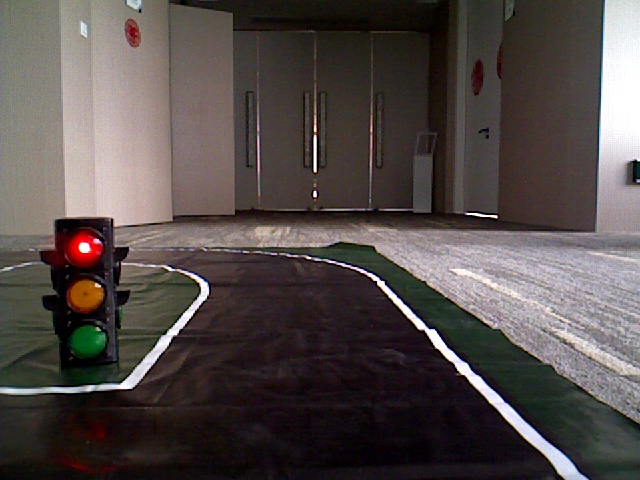red: (56, 223, 113, 362)
